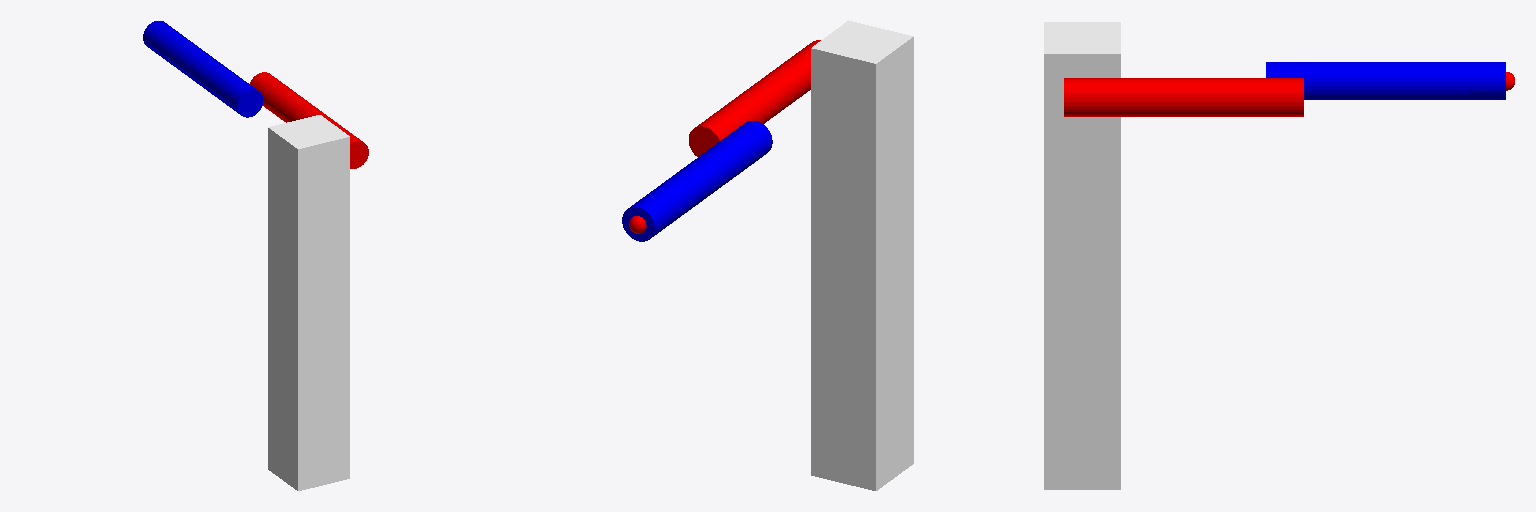
The robot description file, URDF, robot "2dof_robot":
<?xml version="1.0"?>
<robot name="2dof_robot">

    <material name="White">
        <color rgba="1.0 1.0 1.0 1.0"/>
    </material>

    <material name="Blue">
        <color rgba="0.0 0.0 1.0 1.0"/>
    </material> 

    <material name="Red">
        <color rgba="1 0 0 1.0"/>
    </material>

    <material name="Black">
        <color rgba="0 0 0 1.0"/>
    </material>    

   <link name="world"/>

   <!-- BASE LINK-->
    <link name="base_link">
        <visual>
            <geometry>
                <box size="0.16 0.16 1.0"/>
            </geometry>
            <material name="White"/>
            <origin xyz="0.0 0.0 0.5" rpy="0.0 0.0 0.0"/>
        </visual>
        <collision>
            <geometry>
                <box size="0.16 0.16 1.0"/>
            </geometry>
            <origin xyz="0.0 0.0 0.5" rpy="0.0 0.0 0.0"/>
        </collision>
        <inertial>
            <mass value="25"/>
            <origin xyz="0.0 0.0 0.5"/>
            <inertia ixx="8.741" iyy="8.741" izz="0.4367" ixy="-0.1637" ixz="-0.1023"  iyz="-0.1023"/>
        </inertial>
    </link>

    <joint name="fixed_base" type="fixed">
        <parent link="world"/>
        <child link="base_link"/>
    </joint>

    <!-- PRVI SEGMENT-->
    <link name="prvi_segment">
        <visual>
            <geometry>
                <cylinder radius="0.04" length="0.5"/>
            </geometry>
            <material name="Red"/>
            <origin xyz="0.12 0.0 0.21" rpy="0.0 0.0 0.0"/>
        </visual>
        <collision>
            <geometry>
                <cylinder radius="0.04" length="0.5"/>
            </geometry>
            <origin xyz="0.0 0.0 0.21" rpy="0.0 0.0 0.0"/>
        </collision>
        <inertial>
            <mass value="2.5"/>
            <origin xyz="0.0 0.0 0.25"/>
            <inertia ixx="0.2091" iyy="0.2091" izz="0.002" ixy="0.0" ixz="0.0"  iyz="0.0"/>
        </inertial>
    </link>

    <joint name="prvi_sklep" type="continuous">
        <axis xyz="1 0 0"/>
        <parent link="base_link"/>
        <child link="prvi_segment"/>
        <origin xyz="0.0 0 0.92" rpy="-1.5707 0 0"/>
    </joint>

     <!-- DRUGI SEGMENT-->
    <link name="drugi_segment">
        <visual>
            <geometry>
                <cylinder radius="0.04" length="0.5"/>
            </geometry>
            <material name="Blue"/>
            <origin xyz="-0.08 0.0 0.21" rpy="0.0 0.0 0.0"/>
        </visual>
        <collision>
            <geometry>
                <cylinder radius="0.04" length="0.5"/>
            </geometry>
            <origin xyz="0.0 0.0 0.21" rpy="0.0 0.0 0.0"/>
        </collision>
        <inertial>
            <mass value="2.5"/>
            <origin xyz="0.0 0.0 0.25"/>
            <inertia ixx="0.2091" iyy="0.2091" izz="0.002" ixy="0.0" ixz="0.0"  iyz="0.0"/>
        </inertial>
    </link>

    <joint name="drugi_sklep" type="continuous">
        <axis xyz="1 0 0"/>
        <parent link="prvi_segment"/>
        <child link="drugi_segment"/>
        <origin xyz="0.12 0 0.42" rpy="0 0 0"/>
    </joint>

        <!-- TCP SEGMENT-->
    <link name="TCP_segment">
        <visual>
            <geometry>
                <sphere radius="0.02"/>
            </geometry>
            <material name="Red"/>
            <origin xyz="0.0 0.0 0.0" rpy="0.0 0.0 0.0"/>
        </visual>
        <collision>
            <geometry>
                <sphere radius="0.02"/>
            </geometry>
            <origin xyz="0.0 0.0 0.0" rpy="0.0 0.0 0.0"/>
        </collision>
        <inertial>
            <mass value="0.034"/>
            <origin xyz="0.0 0.0 0.0"/>
            <inertia ixx="0.0000054" iyy="0.0000054" izz="0.0000054" ixy="0.0" ixz="0.0"  iyz="0.0"/>
        </inertial>
    </link>

    <joint name="TCP_sklep" type="fixed">
        <parent link="drugi_segment"/>
        <child link="TCP_segment"/>
        <origin xyz="-0.08 0 0.46" rpy="0 0 0"/>
    </joint>

    <gazebo reference = "prvi_segment">
        <material>Gazebo/Red</material>
    </gazebo>

    <!-- PRENOSI -->
    <transmission name="trans1">
        <type>transmission_interface/SimpleTransmission</type>
        <joint name="prvi_sklep">
            <hardwareInterface>hardware_interface/PositionJointInterface</hardwareInterface>
        </joint>
        <actuator name="motor1">
            <mechanicalReduction>1</mechanicalReduction>
        </actuator>
    </transmission>

    <transmission name="trans2">
        <type>transmission_interface/SimpleTransmission</type>
        <joint name="drugi_sklep">
            <hardwareInterface>hardware_interface/PositionJointInterface</hardwareInterface>
        </joint>
        <actuator name="motor2">
            <mechanicalReduction>1</mechanicalReduction>
        </actuator>
    </transmission>

    <gazebo>
        <plugin name="joint_state_publisher" filename="libgazebo_ros_joint_state_publisher.so">
            <jointName>prvi_sklep, drugi_sklep</jointName>
        </plugin>
    </gazebo> 

    <gazebo>
        <plugin name="control" filename="libgazebo_ros_control.so">
            <robotNamespace>/MOJROBOT</robotNamespace>
        </plugin>
    </gazebo>

</robot>

--- Facts derived from the render (not from the file) ---
The picture shows the robot from 3 angles, left to right: view 1: azimuth 30°, elevation 25°; view 2: azimuth 150°, elevation 25°; view 3: azimuth 270°, elevation 25°; orthographic projection.
Model 2dof_robot with 5 links and 4 joints (2 continuous, 2 fixed), rooted at world, posed all joints at 0.
Visible links, largest first — view 1: base_link, drugi_segment, prvi_segment; view 2: base_link, drugi_segment, prvi_segment; view 3: base_link, prvi_segment, drugi_segment.
Link boxes in pixels (x1,y1,x2,y2): base_link: (268, 115, 349, 490); drugi_segment: (143, 21, 263, 117); prvi_segment: (250, 72, 368, 168); base_link: (811, 20, 913, 490); drugi_segment: (622, 121, 772, 241); prvi_segment: (689, 40, 820, 156); base_link: (1044, 22, 1120, 489); prvi_segment: (1064, 78, 1303, 116); drugi_segment: (1266, 62, 1505, 99).
Size in the robot's own frame: 0.24 by 0.98 by 1 metres.
Geometry: primitives only (box / cylinder / sphere), no mesh files.
